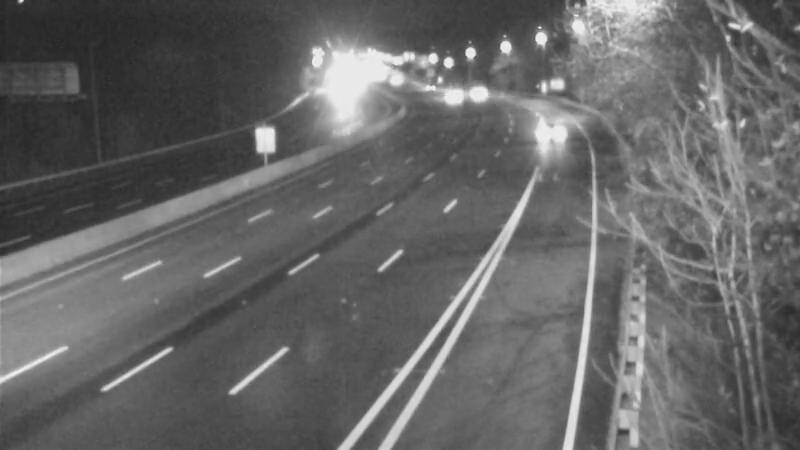vehicle: (398, 60, 448, 110), (457, 68, 507, 118), (425, 73, 475, 123), (527, 109, 577, 159)
